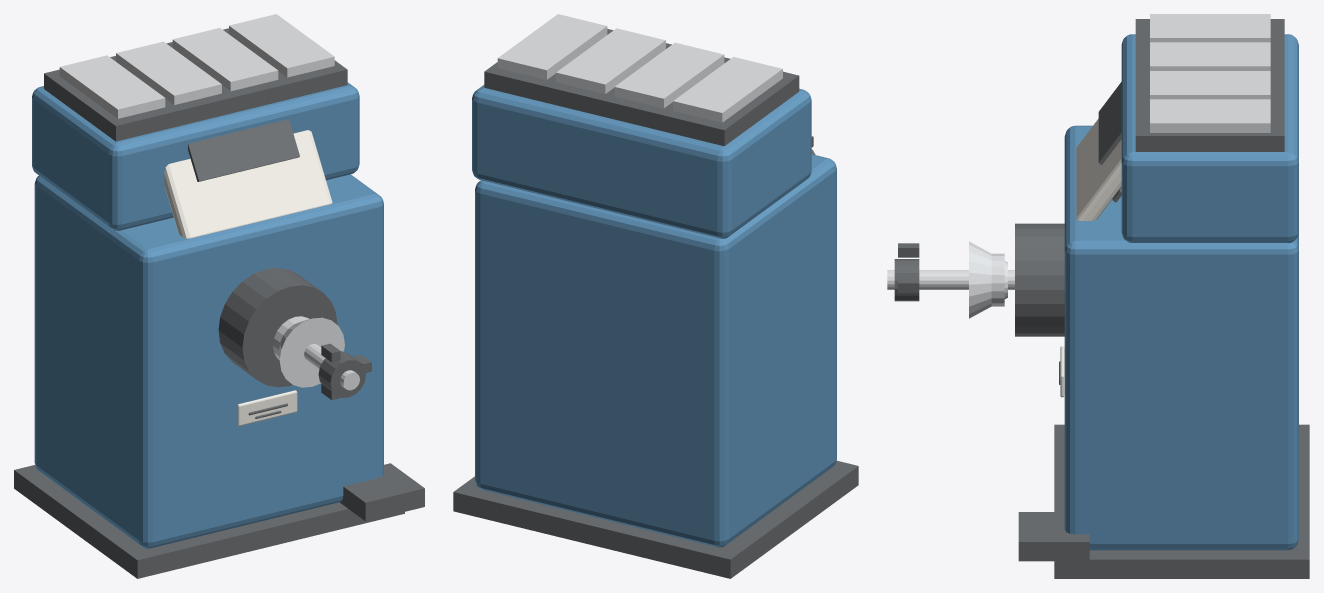
Rendered from car-repair-garage-and-mot-workshop-car-repair-garage-a-9c373215__34021.glb.
3 views of the same model, side by side, from view 1: azimuth 30°, elevation 25°; view 2: azimuth 150°, elevation 25°; view 3: azimuth 270°, elevation 25° (orthographic). The views are drawn at different scales.
Visible parts, largest first — view 1: car-repair-garage-and-mot-workshop-wheel-balancer, shaft-spin/steel, shaft-spin/charcoal; view 2: car-repair-garage-and-mot-workshop-wheel-balancer; view 3: car-repair-garage-and-mot-workshop-wheel-balancer, shaft-spin/steel, shaft-spin/charcoal.
Part boxes in pixels (box(x1,y1,x2,y2)): car-repair-garage-and-mot-workshop-wheel-balancer: box(14, 14, 424, 578); shaft-spin/steel: box(273, 316, 359, 390); shaft-spin/charcoal: box(318, 343, 371, 399); car-repair-garage-and-mot-workshop-wheel-balancer: box(453, 14, 858, 578); car-repair-garage-and-mot-workshop-wheel-balancer: box(1015, 14, 1309, 578); shaft-spin/steel: box(887, 241, 1014, 318); shaft-spin/charcoal: box(894, 243, 919, 301).
Size of the model in its own units: 0.9099 by 1.38 by 1.19.
